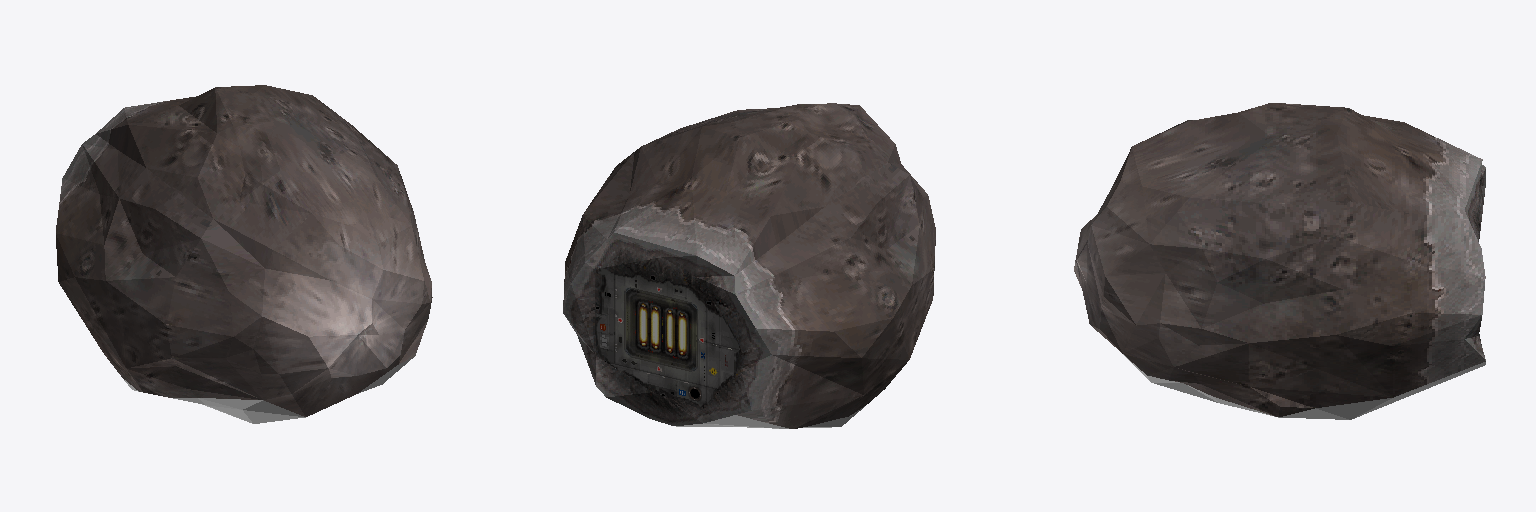
3 views of the same model, side by side, from view 1: azimuth 30°, elevation 25°; view 2: azimuth 150°, elevation 25°; view 3: azimuth 270°, elevation 25° (orthographic).
Parts seen in each view (by area): view 1: HeadShotAsteroid; view 2: HeadShotAsteroid; view 3: HeadShotAsteroid.
Part boxes in pixels (x1,y1,x2,y2): HeadShotAsteroid: (56, 85, 432, 423); HeadShotAsteroid: (563, 103, 935, 428); HeadShotAsteroid: (1074, 103, 1485, 419).
Bounding box in the file's own units: 2.89 × 2.61 × 3.37.
Materials: 8 (7 with a texture image).